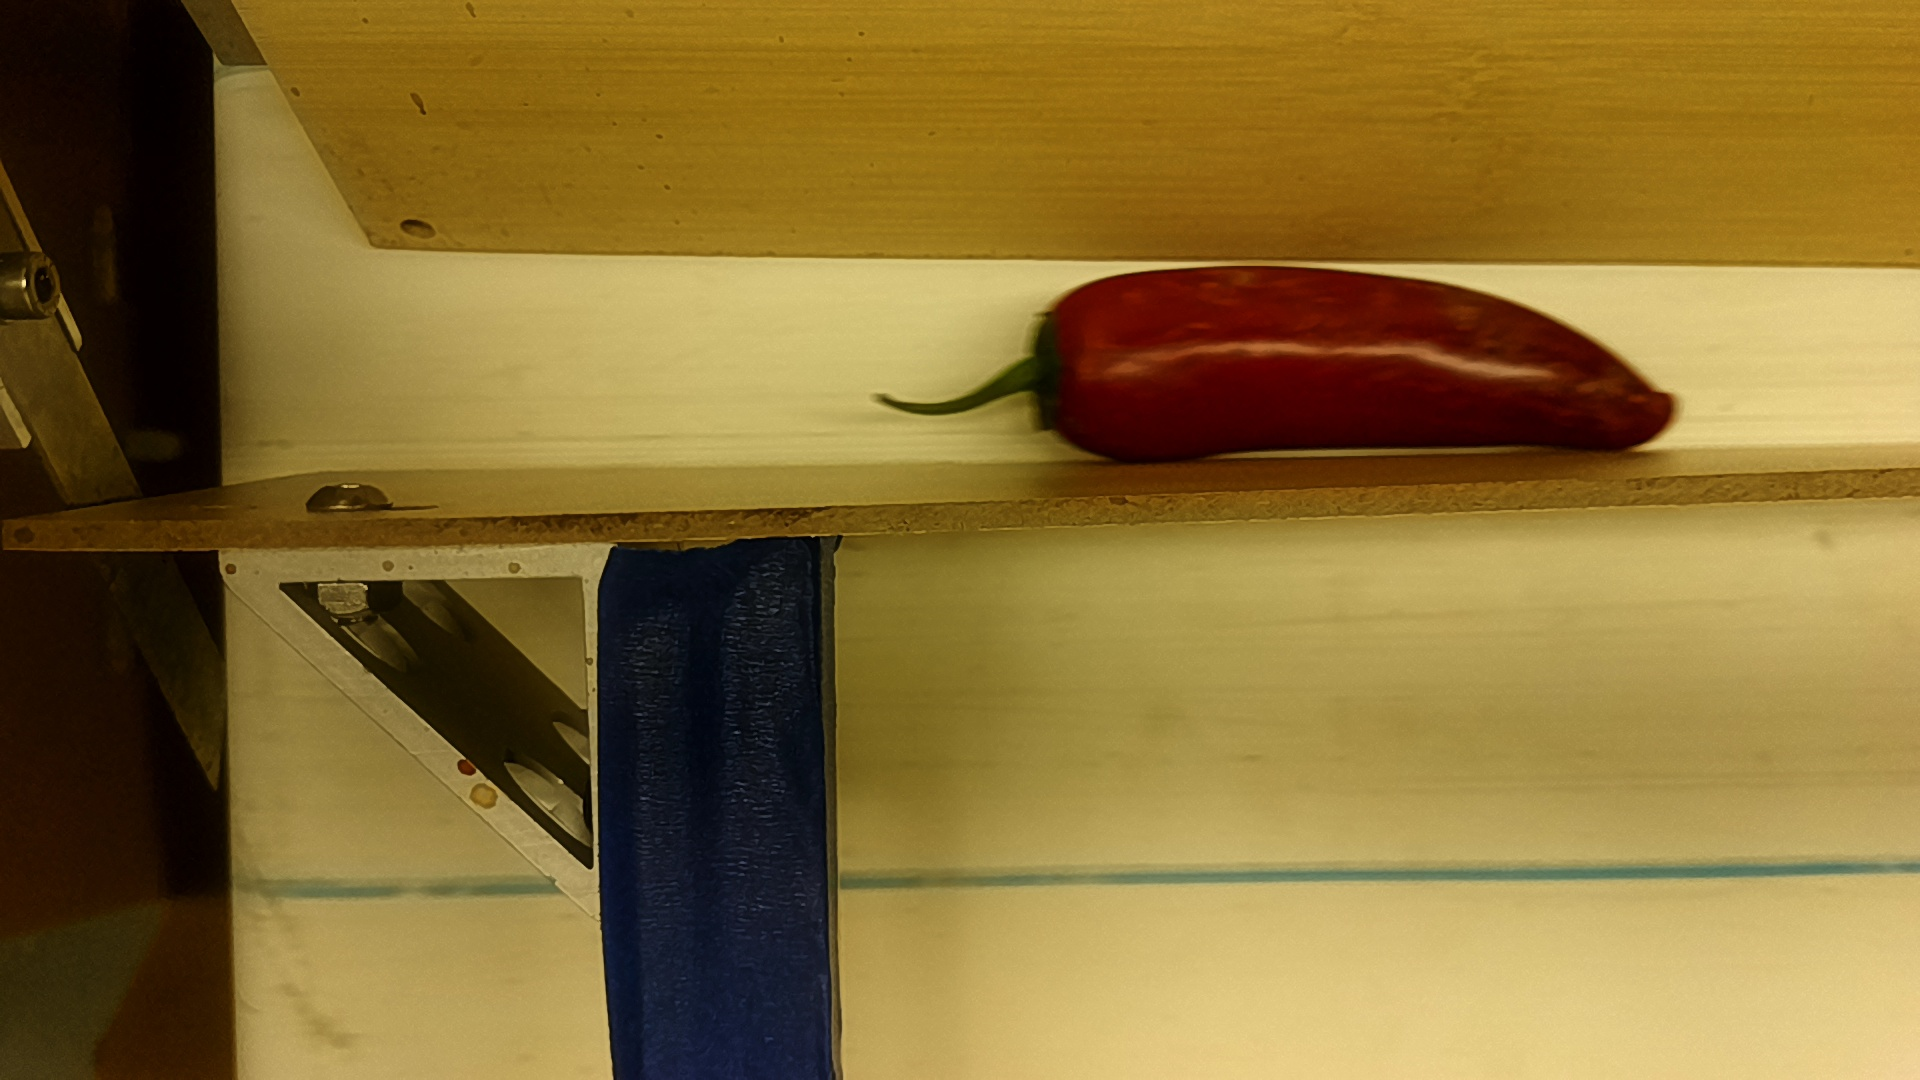Cut Point: (1021, 278, 1095, 467)
